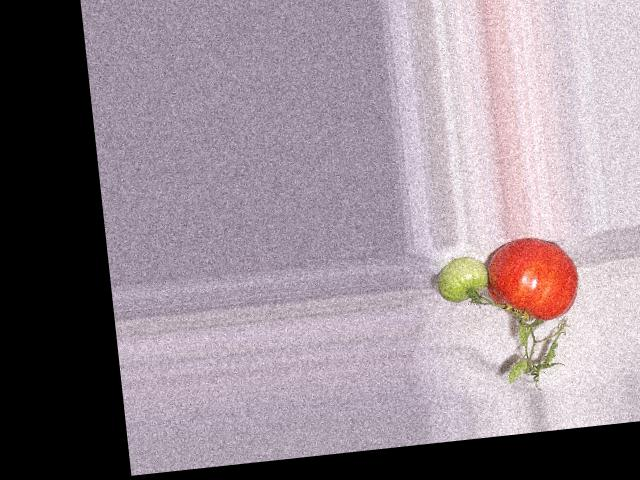tomato: (482, 233, 582, 326)
